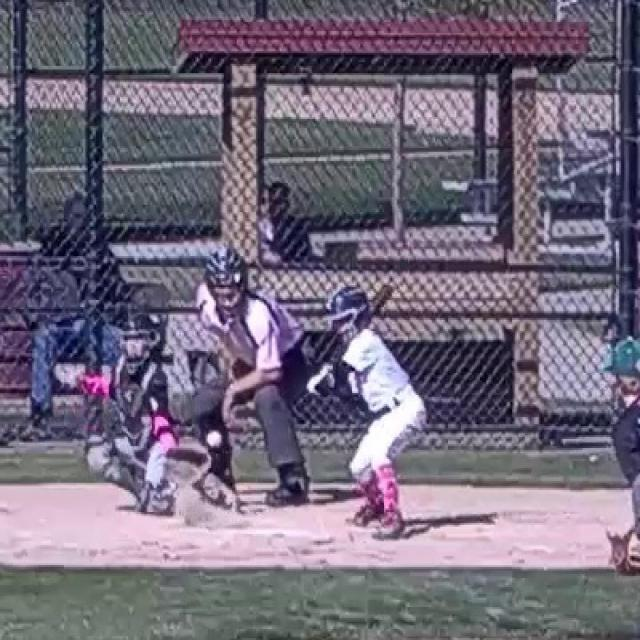baseball: (207, 432, 221, 446)
